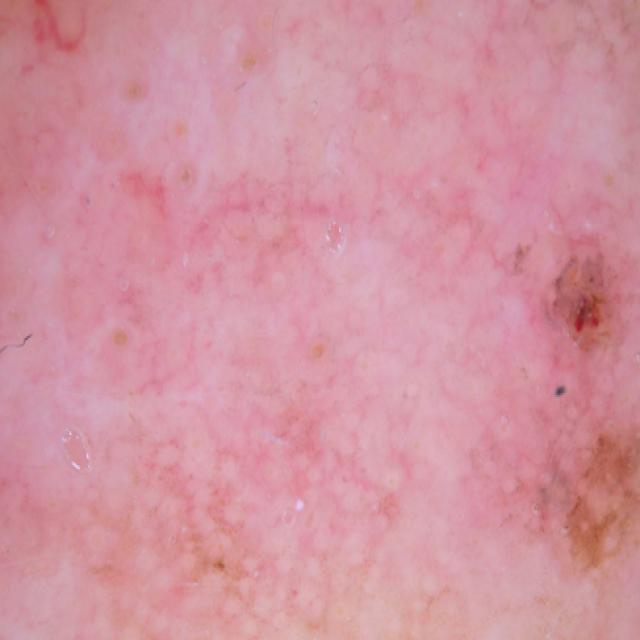Melanoma: (101, 91, 640, 614)
